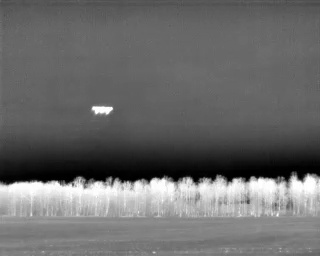DRONE: (87, 100, 117, 121)
